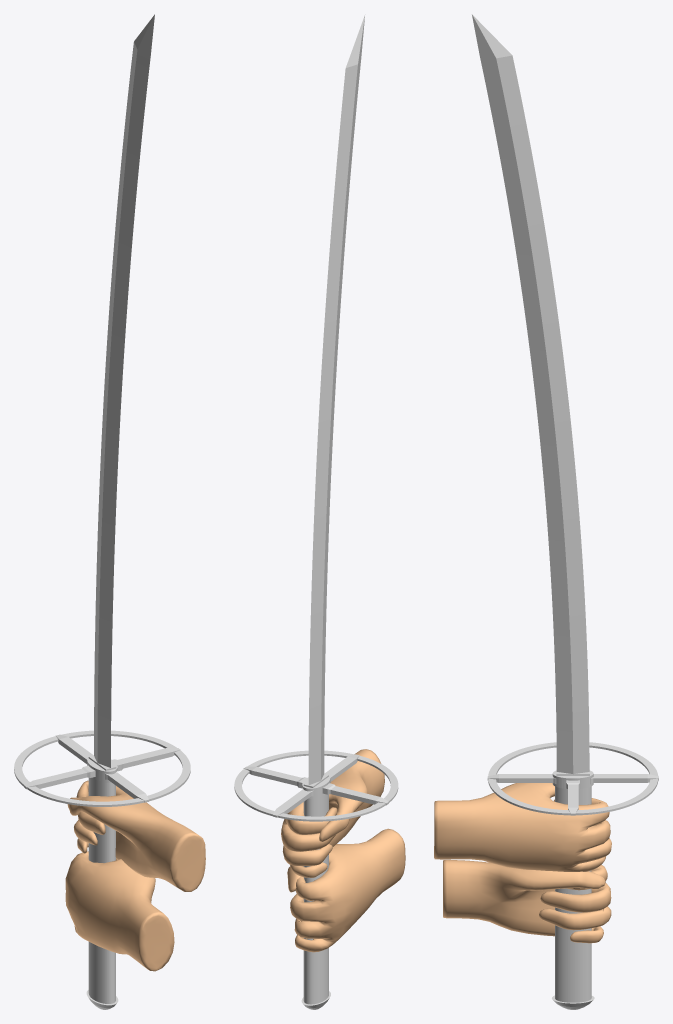
File: Руки 1.fbx
The picture shows the model from 3 angles, left to right: view 1: azimuth 30°, elevation 25°; view 2: azimuth 150°, elevation 25°; view 3: azimuth 270°, elevation 25°; orthographic projection. The views are drawn at different scales.
Parts seen in each view (by area): view 1: Plane, Рука_1.003, Рука_1.001, Cylinder, Circle, Cube.002, Cube, Cube.003; view 2: Plane, Рука_1.003, Рука_1.001, Cylinder, Circle, Cube.002, Cube, Cube.001; view 3: Plane, Рука_1.001, Рука_1.003, Cylinder, Circle, Cube.003, Cube.001.
Part boxes in pixels (x1,y1,x2,y2): Plane: [94, 14, 154, 767]; Рука_1.003: [65, 851, 174, 971]; Рука_1.001: [67, 780, 205, 891]; Cylinder: [86, 755, 118, 1009]; Circle: [14, 730, 190, 806]; Cube.002: [24, 765, 95, 789]; Cube: [112, 748, 180, 771]; Cube.003: [105, 771, 148, 802]; Plane: [308, 15, 364, 784]; Рука_1.003: [287, 828, 405, 952]; Рука_1.001: [281, 749, 384, 877]; Cylinder: [301, 773, 330, 1009]; Circle: [234, 750, 398, 821]; Cube.002: [322, 783, 388, 805]; Cube: [243, 766, 306, 788]; Cube.001: [273, 788, 313, 817]; Plane: [472, 14, 589, 773]; Рука_1.001: [434, 783, 611, 871]; Рука_1.003: [443, 860, 611, 943]; Cylinder: [552, 770, 594, 1009]; Circle: [488, 742, 658, 815]; Cube.003: [487, 774, 556, 783]; Cube.001: [590, 774, 658, 784].
Bounding box in the file's own units: 844 × 5401 × 1107.
